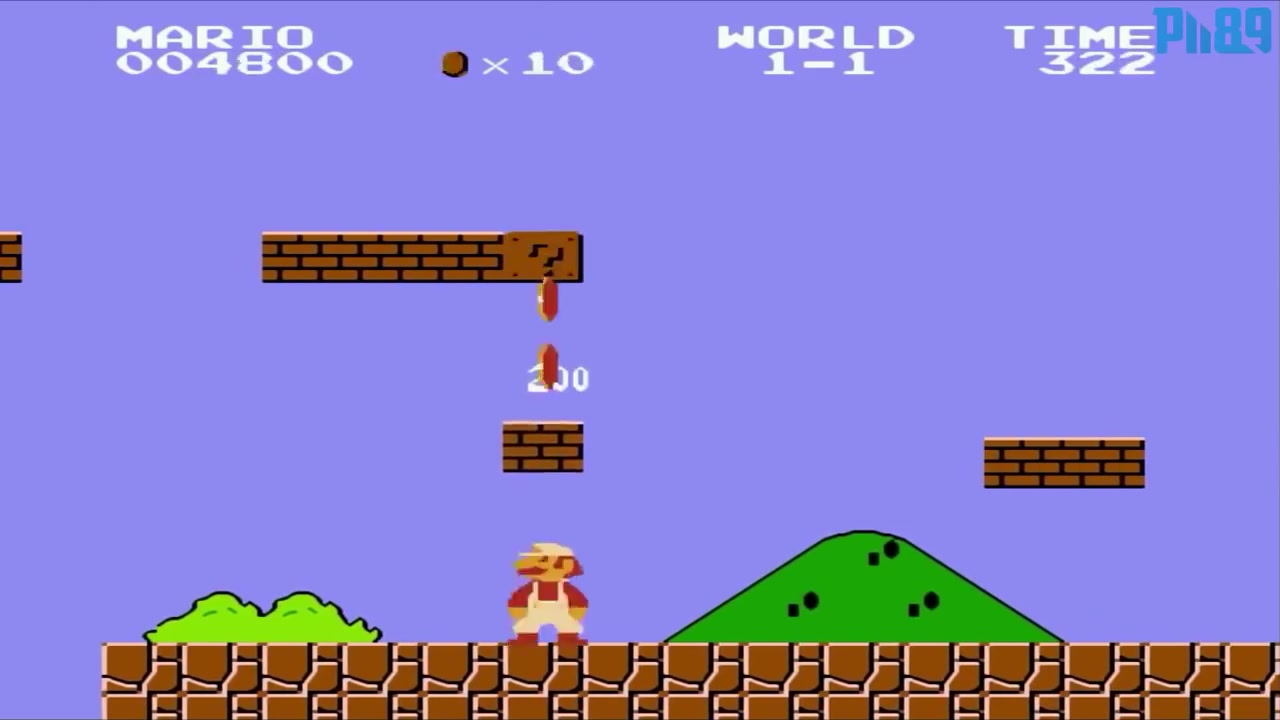mario: (508, 544, 585, 643)
